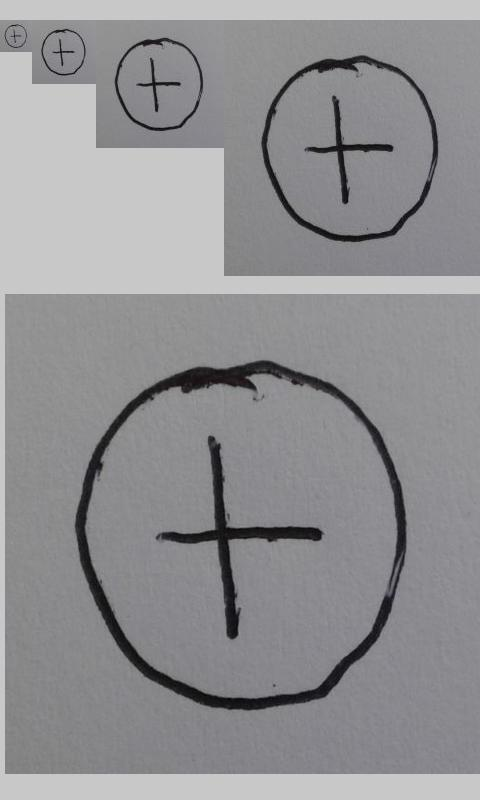button: (73, 359, 408, 712), (260, 54, 440, 244), (114, 37, 205, 132), (41, 29, 86, 76), (4, 24, 27, 48)
